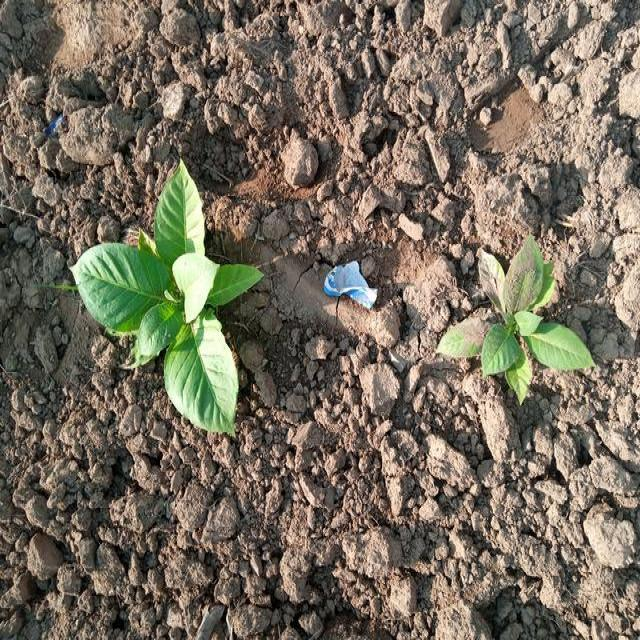crop: (80, 165, 256, 438), (443, 244, 592, 396)
